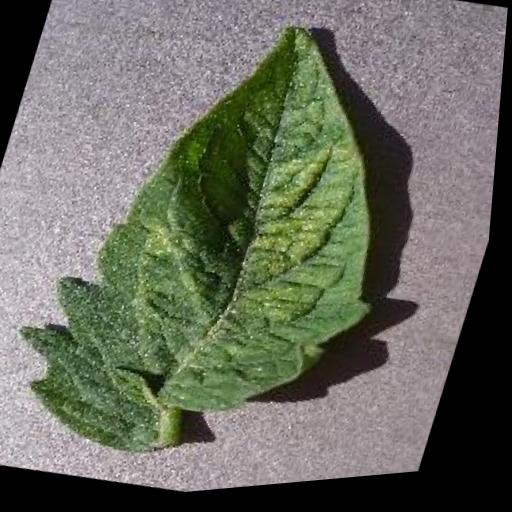Spider Mites: (0, 0, 456, 509)
